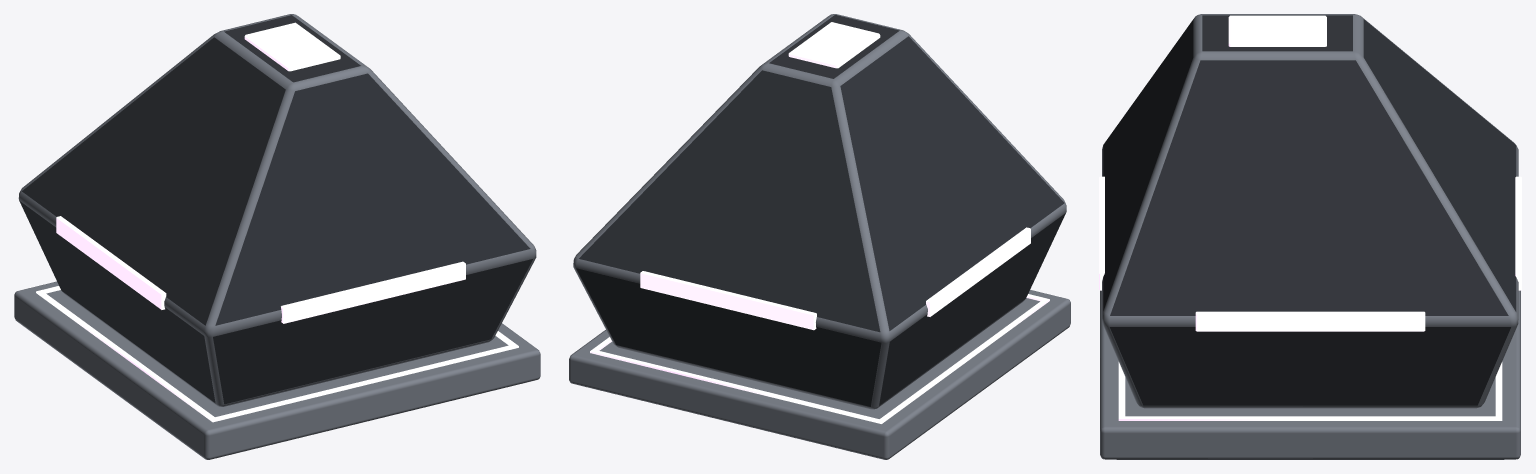
The model's file is R4X_Stealth.fbx.
3 views of the same model, side by side, from view 1: azimuth 30°, elevation 25°; view 2: azimuth 150°, elevation 25°; view 3: azimuth 270°, elevation 25° (orthographic). The views are drawn at different scales.
Visible parts, largest first — view 1: R4X_Stealth_Body; view 2: R4X_Stealth_Body; view 3: R4X_Stealth_Body.
Part boxes in pixels (bbox=[...]): R4X_Stealth_Body: bbox=[14, 14, 540, 459]; R4X_Stealth_Body: bbox=[569, 14, 1070, 459]; R4X_Stealth_Body: bbox=[1099, 14, 1521, 459].
Bounding box in the file's own units: 0.516 × 0.466 × 0.516.
